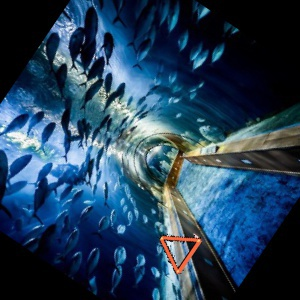triangle: (156, 229, 203, 276)
